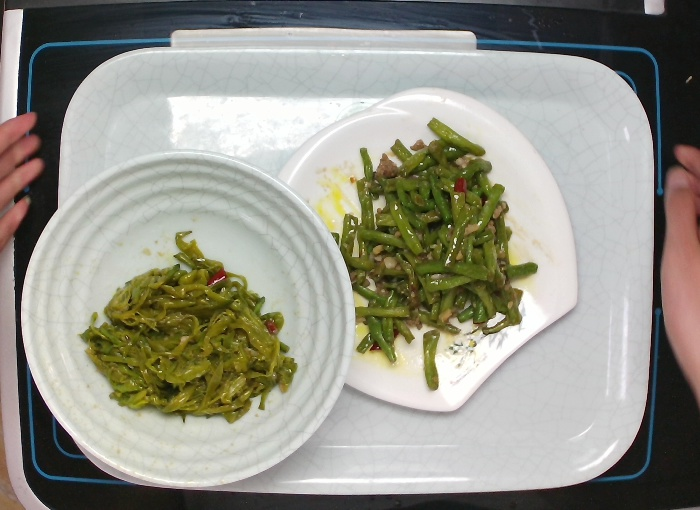JYsf-Da_Tang_Wan: (16, 145, 360, 493)
JYsf-Mian_Pan: (270, 83, 583, 419)
